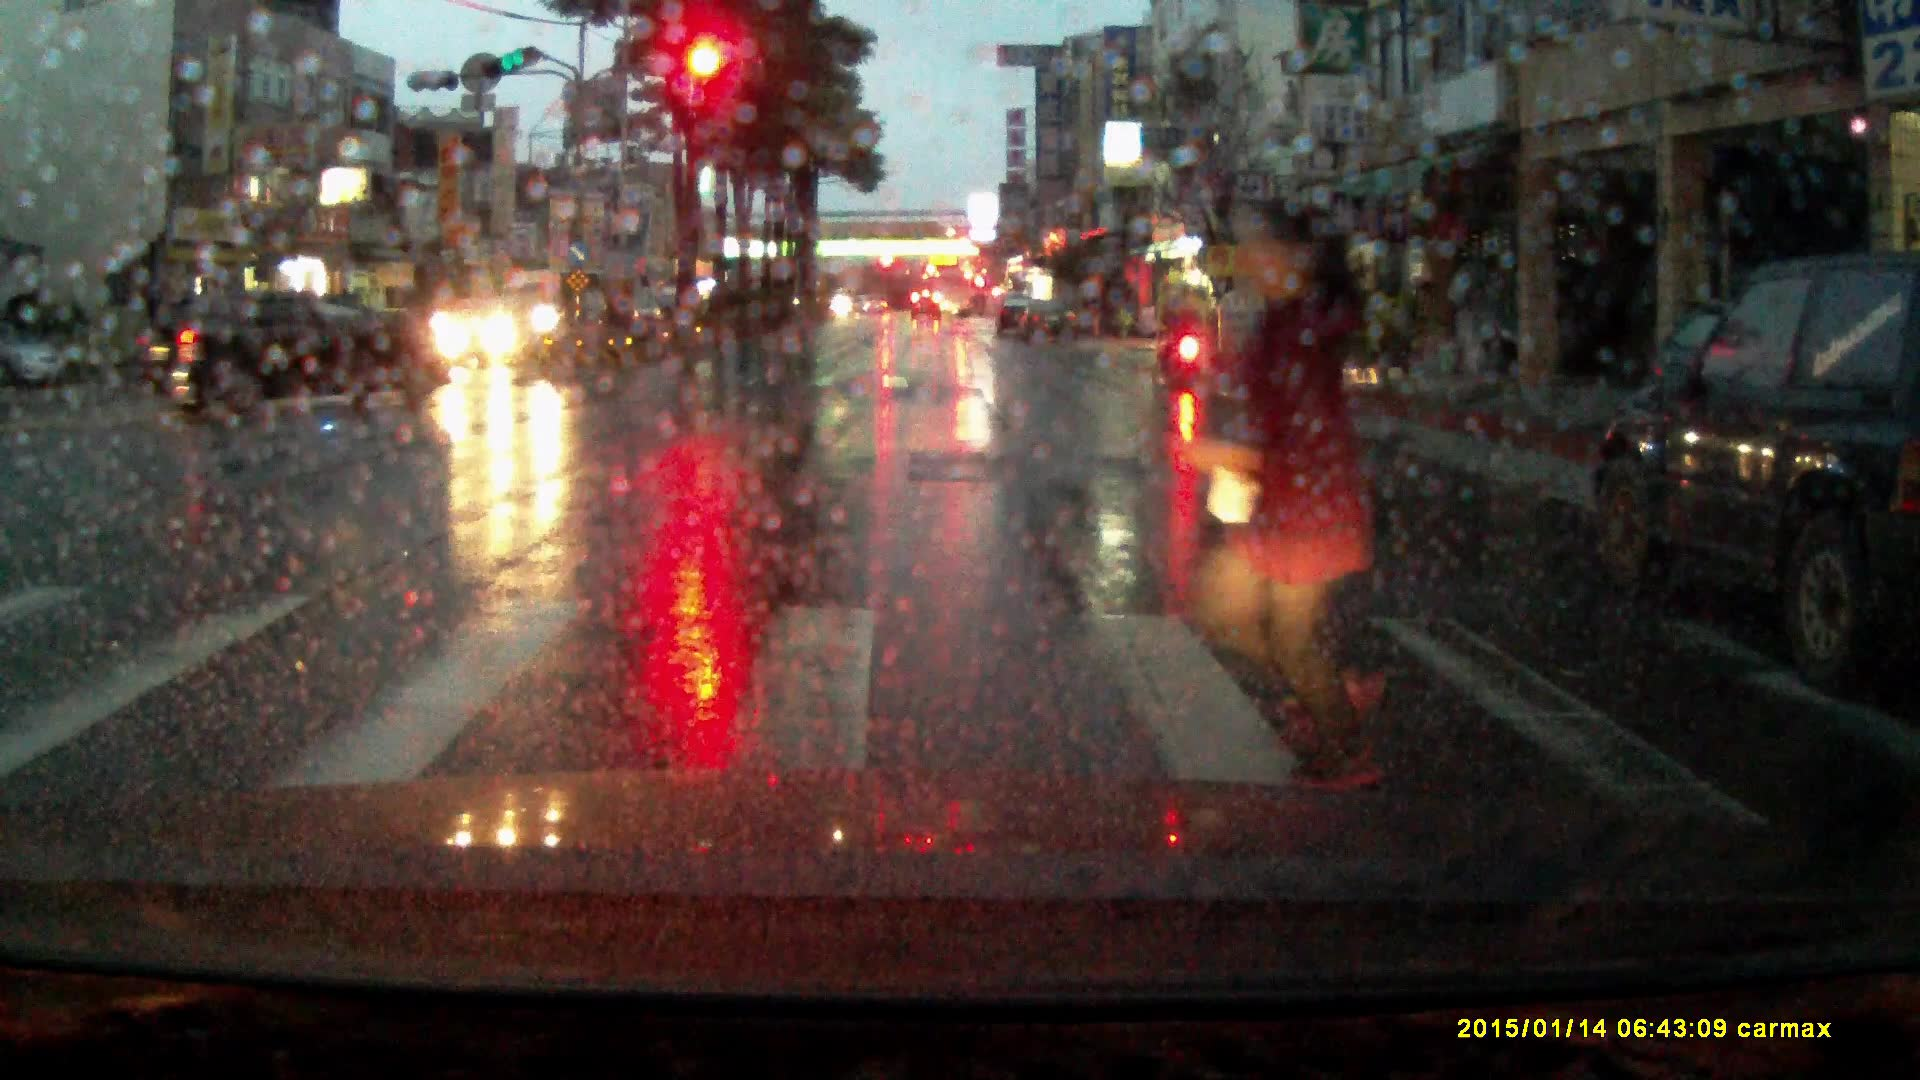pedestrian: (1146, 180, 1443, 796)
rider: (1158, 274, 1206, 387)
vehicle: (1582, 248, 1920, 683), (132, 291, 434, 423), (431, 298, 546, 370), (494, 268, 591, 341), (574, 288, 664, 340), (1017, 300, 1079, 346), (931, 264, 973, 321), (995, 295, 1030, 338), (911, 291, 943, 322)
